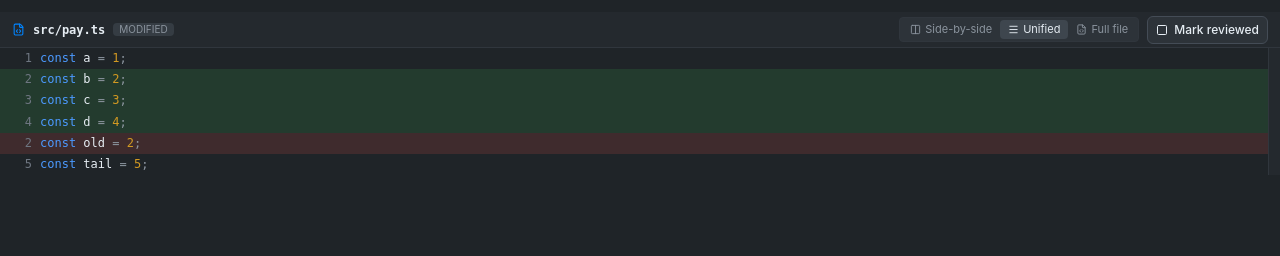
ReviewDiffPane › full file › fills in the lines the patch elided
Step 1. Click the button "Full file" → click(1102, 30), box [1068,20,1136,39]
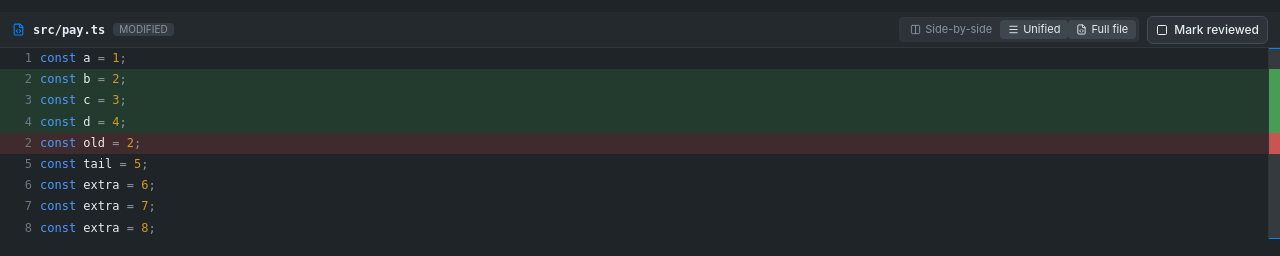
Expected: the element showing "2 const b = 2;" is shown, [0,69,1268,90]
Result: the text "const extra = 6;" is shown at [40,178,156,192]
Result: the text "const extra = 8;" is shown at [40,220,156,234]
